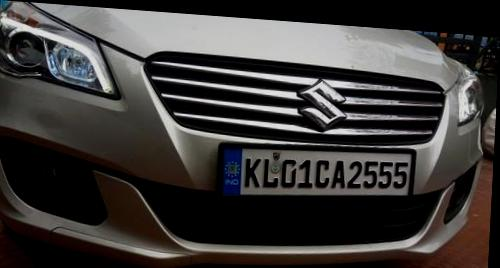License_Plate: (216, 141, 412, 203)
